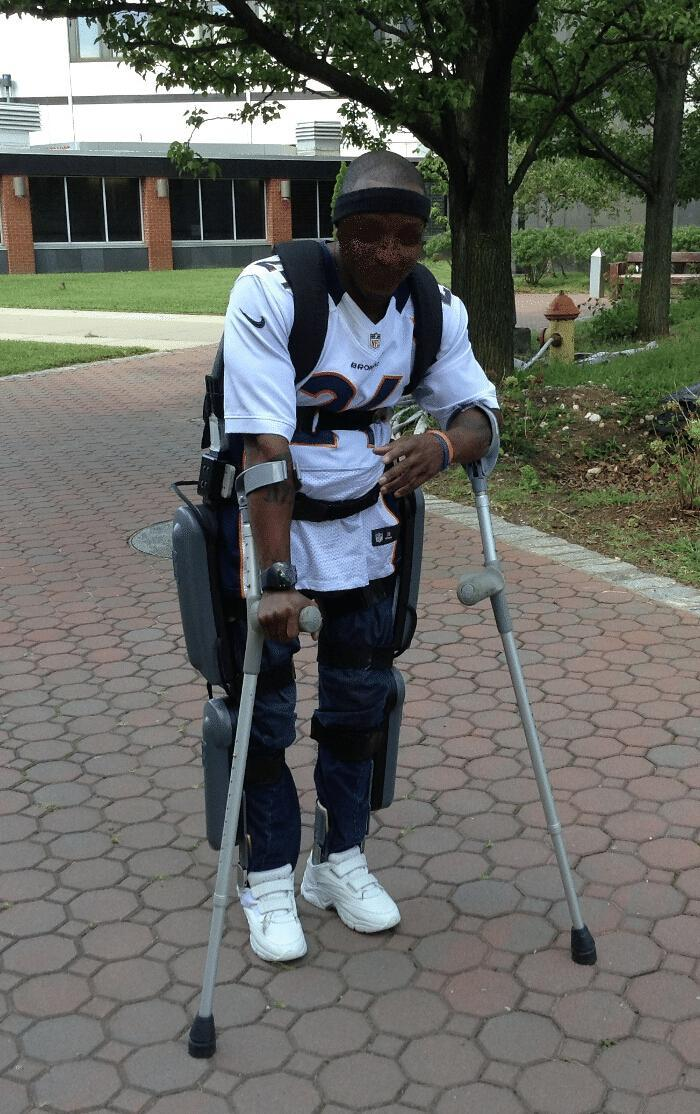crutches: (169, 154, 603, 1057)
